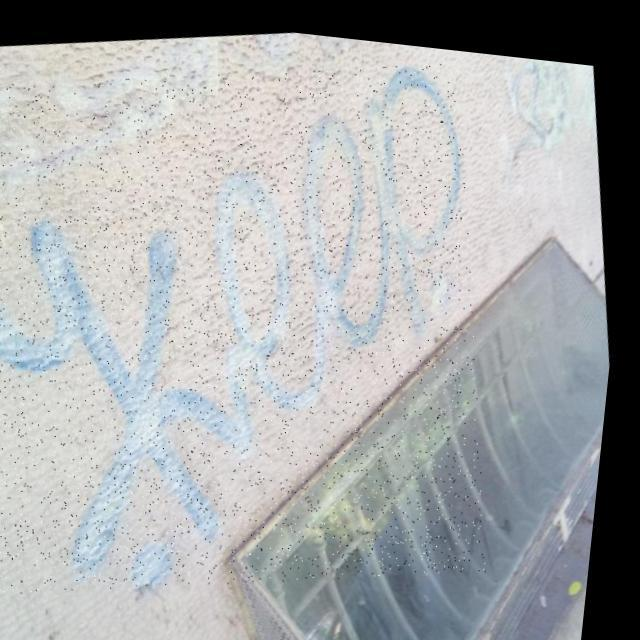-: (0, 12, 539, 638)
